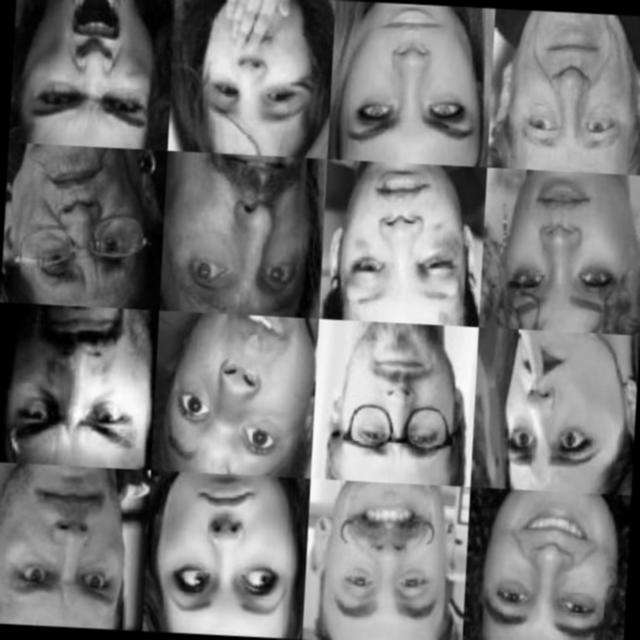angry: (7, 308, 150, 456), (485, 338, 614, 484), (5, 477, 126, 617), (24, 0, 145, 139)
fear: (337, 171, 458, 315)
happy: (314, 492, 463, 638), (476, 494, 623, 640), (176, 6, 314, 147)
neutral: (148, 471, 292, 637), (506, 14, 640, 169), (158, 317, 298, 463), (494, 172, 619, 332), (340, 13, 473, 147), (336, 329, 458, 475)
sad: (158, 158, 307, 299)
